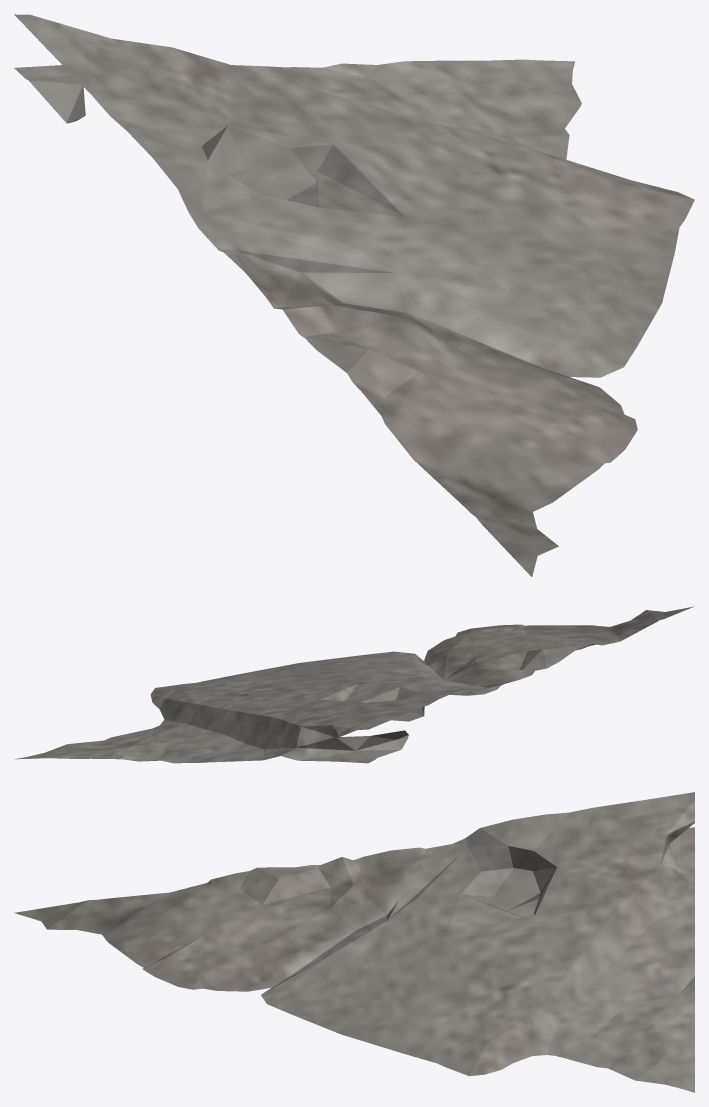
The picture shows the model from 3 angles, top to bottom: view 1: azimuth 30°, elevation 25°; view 2: azimuth 150°, elevation 25°; view 3: azimuth 270°, elevation 25°; orthographic projection. The views are drawn at different scales.
Bounding box in the file's own units: 0.7859 × 0.246 × 1.26.
1 material, 1 textured.
